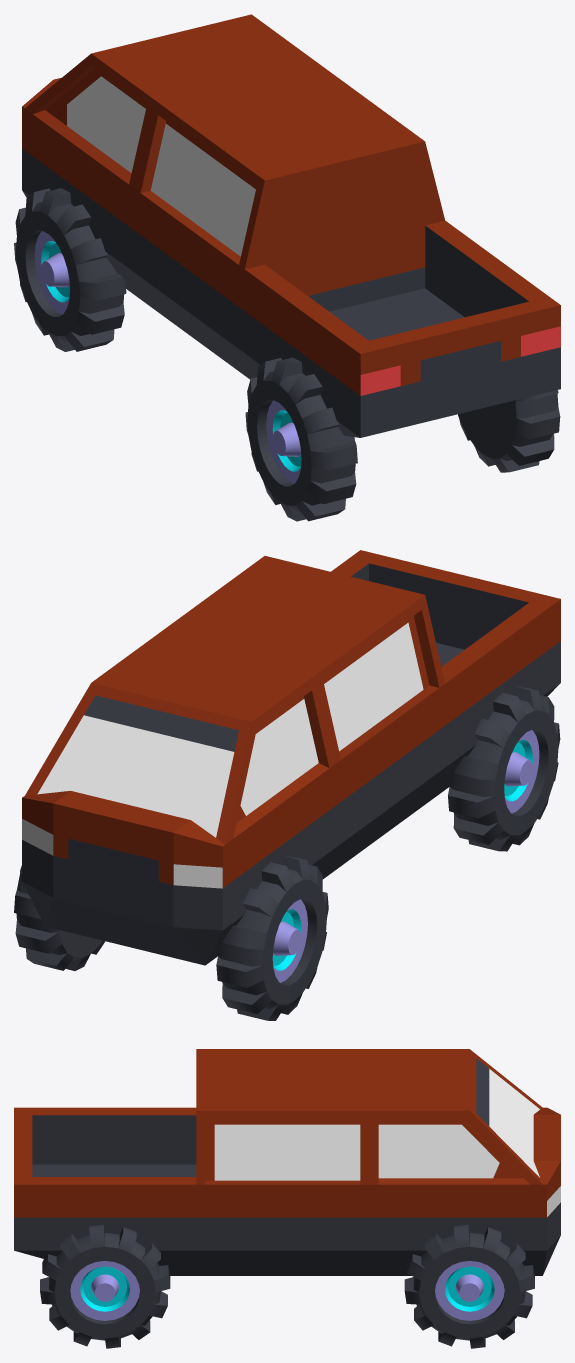
The model's file is obstacle_truck.glb.
The picture shows the model from 3 angles, top to bottom: view 1: azimuth 30°, elevation 25°; view 2: azimuth 150°, elevation 25°; view 3: azimuth 270°, elevation 25°; orthographic projection. The views are drawn at different scales.
Visible parts, largest first — view 1: mergedBlocks(Clone); view 2: mergedBlocks(Clone); view 3: mergedBlocks(Clone).
Boxes of the visible parts, x1,y1,x2,y2 form: mergedBlocks(Clone): (14,14,560,521); mergedBlocks(Clone): (14,550,560,1020); mergedBlocks(Clone): (14,1049,560,1348).
Size of the model in its own units: 1.23 by 1.36 by 3.
1 material, 1 textured.
